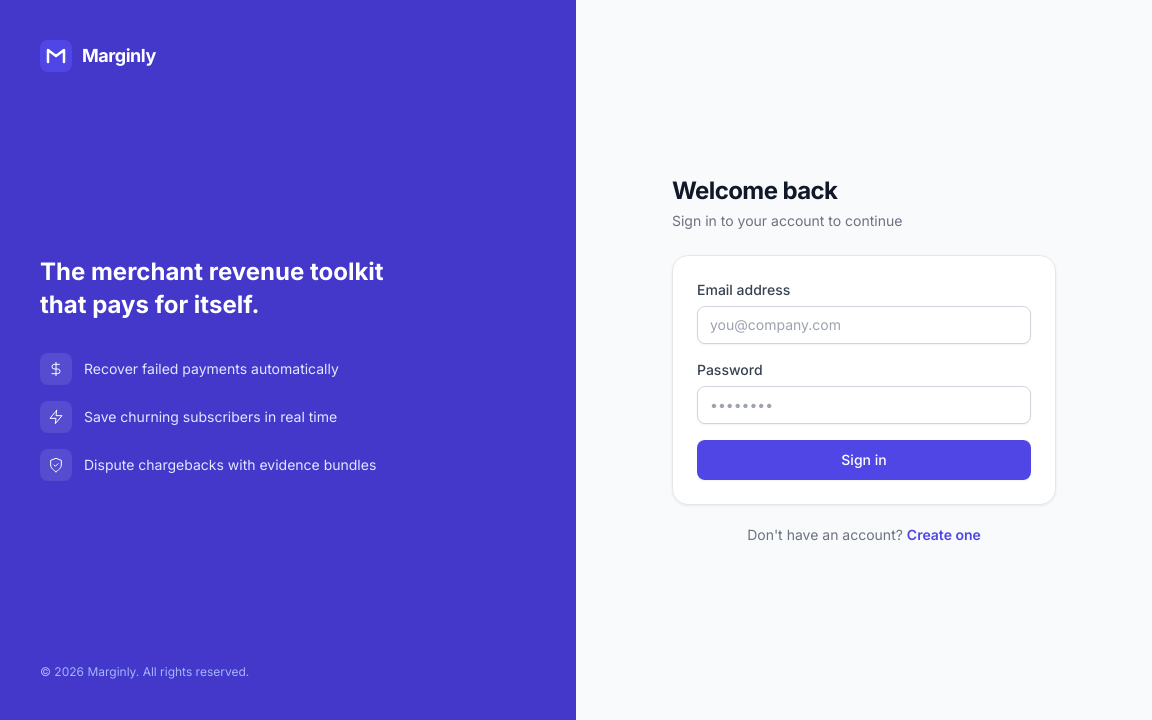
Test: LoginPage › shows validation error when password is empty
This screenshot has width=1152, height=720.
Step 1. Type "a@b.com" into the field with placeholder "you@company.com" → (864, 325), box 697,306 -> 1031,344
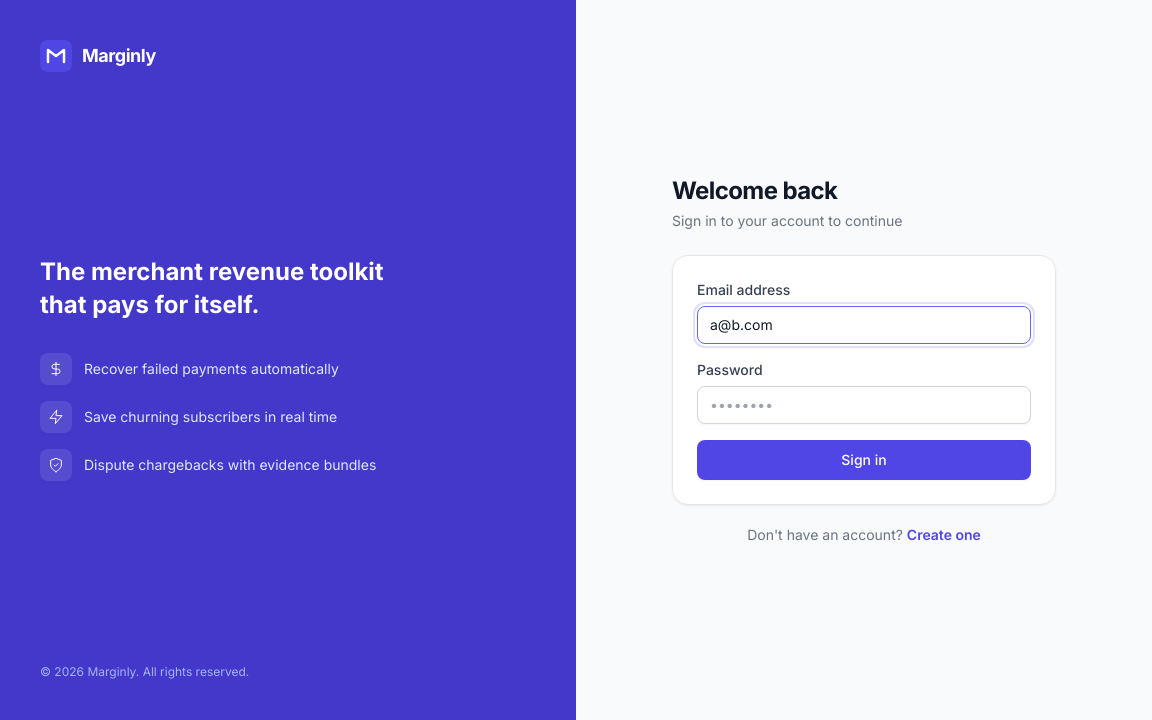
Step 2. Click the button "Sign in" → (864, 460), box 697,440 -> 1031,480
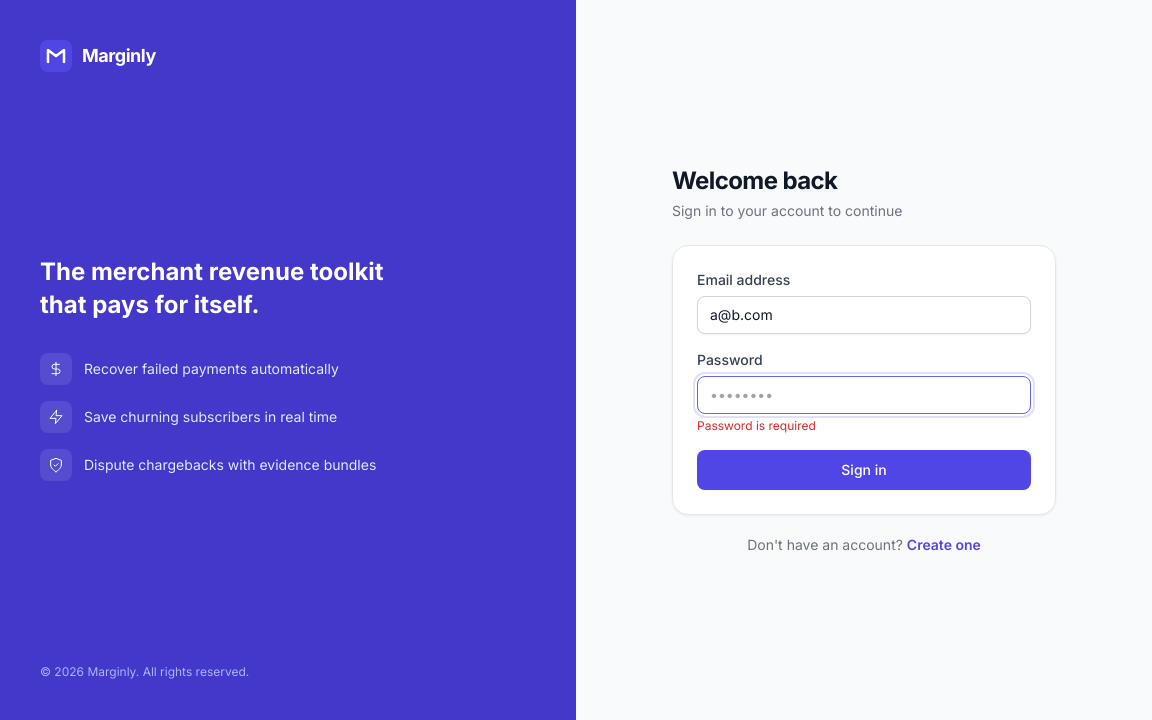
Now the text "Password is required" is shown, box 697,418 -> 816,433
